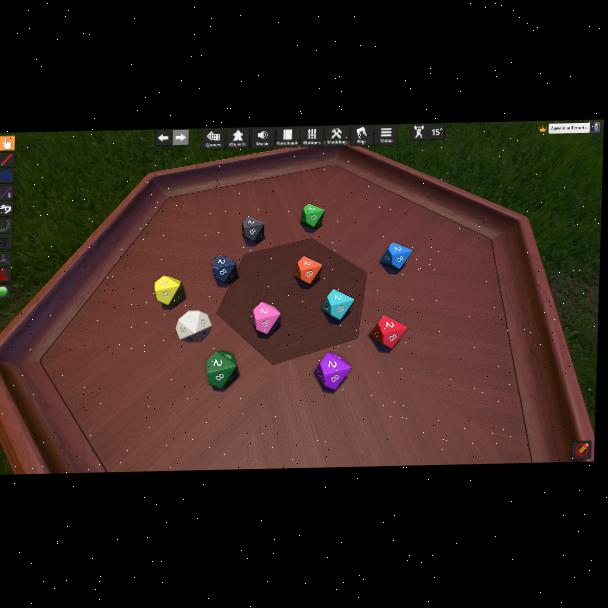d10: (313, 351, 350, 392), (371, 315, 407, 350), (176, 310, 213, 343), (205, 351, 237, 389), (251, 301, 281, 335), (321, 289, 352, 321), (380, 242, 412, 272), (153, 275, 183, 307), (212, 255, 238, 285), (295, 256, 321, 286), (241, 216, 265, 244), (300, 204, 324, 230)
